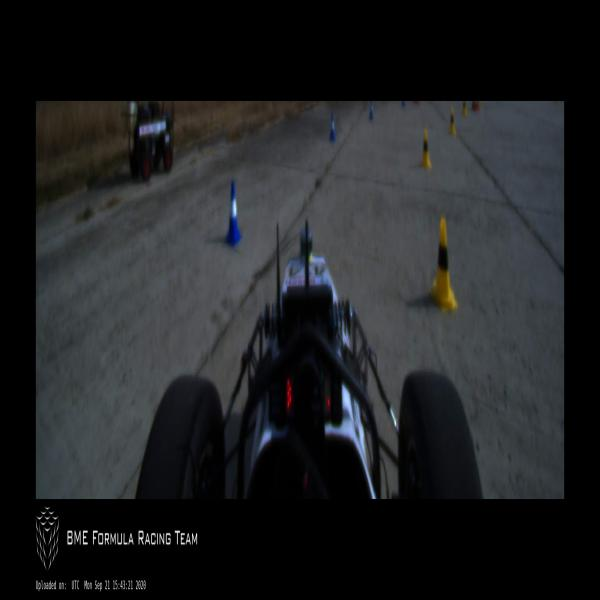blue_cone: (223, 182, 242, 249), (329, 111, 336, 143), (369, 101, 374, 121)
yellow_cone: (429, 217, 458, 314), (420, 127, 432, 167), (448, 106, 456, 136)
